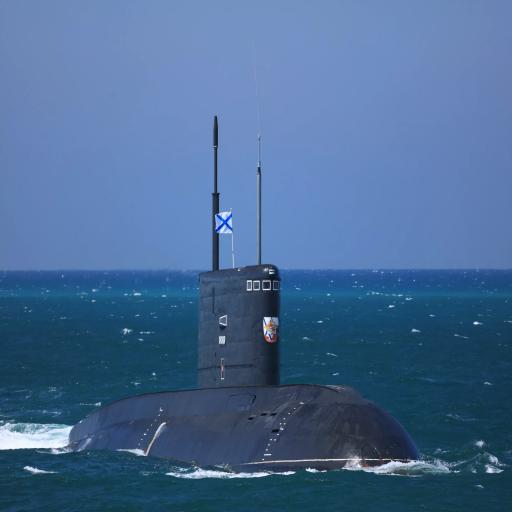submarine: (66, 111, 428, 479)
